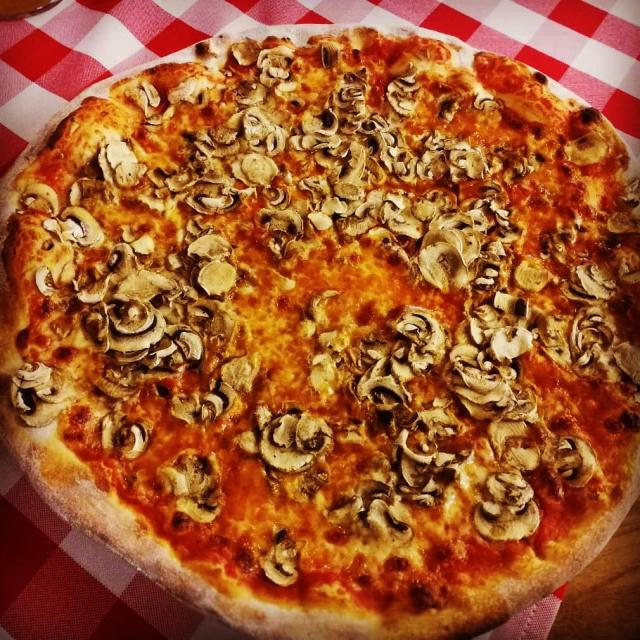mushrooms: (295, 135, 394, 228), (448, 347, 540, 424), (390, 408, 461, 506), (235, 402, 333, 471), (305, 68, 387, 136), (162, 453, 226, 527), (11, 357, 76, 428), (564, 305, 622, 384), (418, 212, 476, 286), (458, 290, 532, 346), (391, 188, 458, 245), (394, 306, 449, 372), (352, 356, 413, 414), (558, 255, 618, 307), (474, 493, 541, 537), (428, 135, 492, 179), (241, 105, 293, 159), (112, 302, 165, 352), (78, 274, 110, 353), (488, 421, 540, 469), (146, 162, 228, 192), (261, 528, 302, 587), (96, 411, 146, 459), (364, 499, 415, 545), (552, 435, 594, 489), (535, 312, 572, 368), (106, 139, 149, 187), (114, 270, 173, 304), (61, 203, 103, 248), (385, 68, 422, 118), (256, 206, 306, 243), (91, 367, 145, 401), (558, 131, 610, 166), (382, 144, 430, 180), (254, 47, 296, 88), (194, 261, 236, 301), (184, 126, 238, 157), (489, 327, 535, 362), (168, 325, 205, 368), (70, 176, 121, 207), (184, 232, 235, 263), (183, 192, 247, 216), (480, 238, 508, 290), (230, 155, 280, 184), (21, 181, 60, 218), (471, 198, 513, 232), (513, 258, 552, 294), (488, 471, 531, 503), (318, 328, 353, 366), (106, 241, 136, 282), (312, 355, 339, 390), (166, 78, 200, 105), (170, 393, 200, 423), (352, 340, 391, 363), (43, 216, 76, 243), (183, 213, 215, 239), (95, 148, 116, 184), (36, 264, 56, 298), (204, 391, 223, 423), (320, 39, 340, 69), (268, 184, 290, 211), (140, 82, 160, 108), (478, 178, 502, 198), (474, 86, 494, 110), (219, 384, 237, 410), (144, 113, 168, 128)
pizza: (0, 25, 640, 640)
